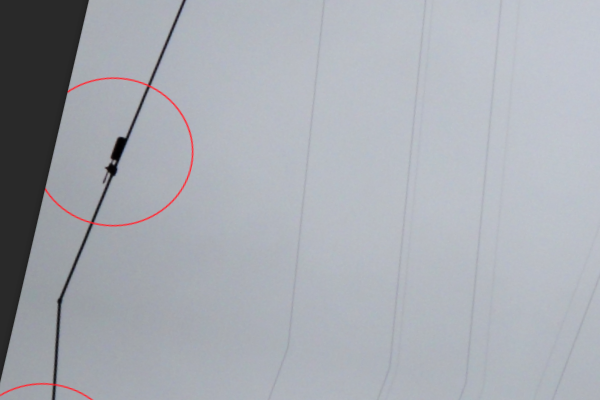damper_defect: (99, 135, 128, 186)
